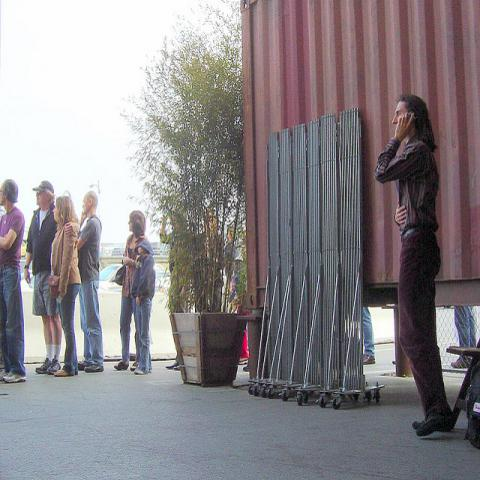car: (100, 263, 170, 289)
